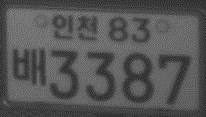3: (85, 50, 117, 101), (49, 49, 79, 99), (130, 16, 150, 44)
7: (158, 53, 193, 105)
8: (120, 51, 156, 105), (108, 16, 128, 43)
배: (11, 47, 46, 86)
인천_H: (52, 14, 99, 41)
